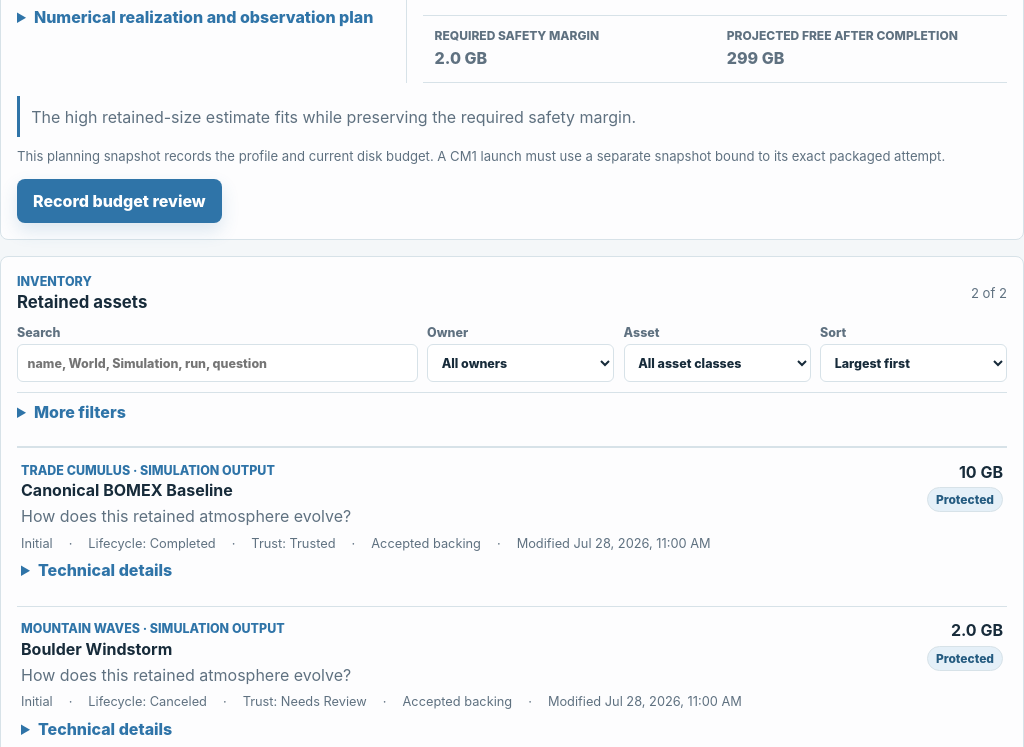
it: StorageWorkspace › summarizes retained assets, filters them, and exposes no destructive action
The image size is (1024, 747).
(page scrolled)
Expected: the heading "Canonical BOMEX Baseline" is shown, [21,480,233,500]
Expected: the heading "Boulder Windstorm" is shown, [21,639,172,659]
Type "Boulder" into the search field labelled "Search". click: [217, 363]
box: [17,344,418,382]
(page scrolled)
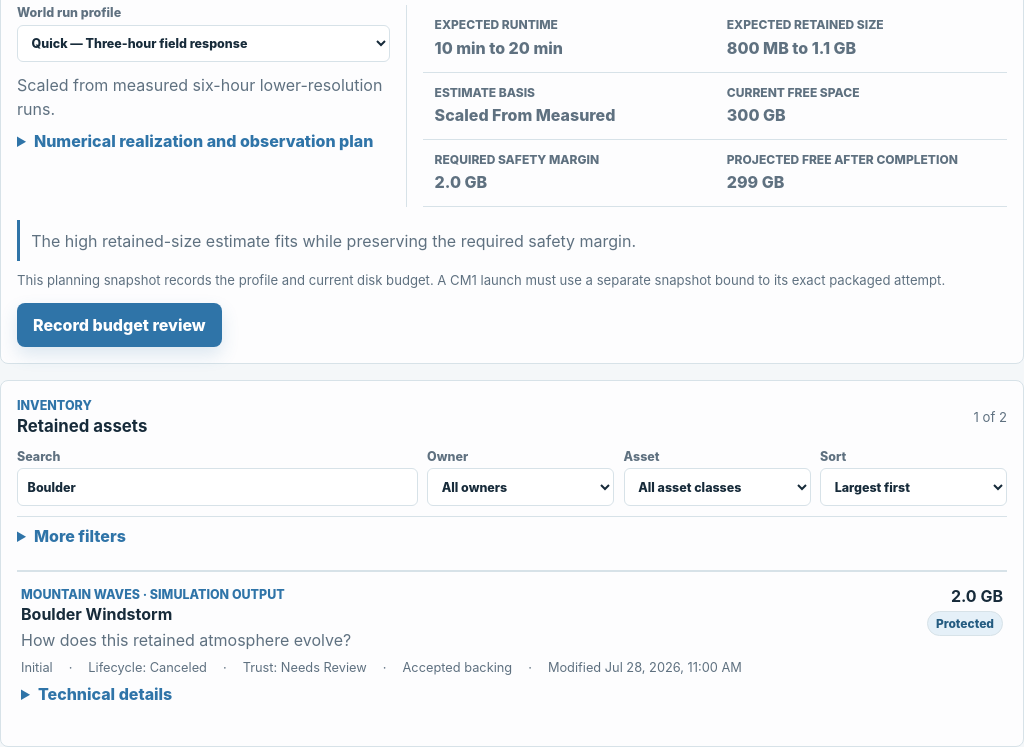
Expected: the heading "Boulder Windstorm" is shown, [21,604,172,624]
Expected: the heading "Canonical BOMEX Baseline" is gone
Expected: the text "1 of 2" is shown, [974,409,1007,425]
